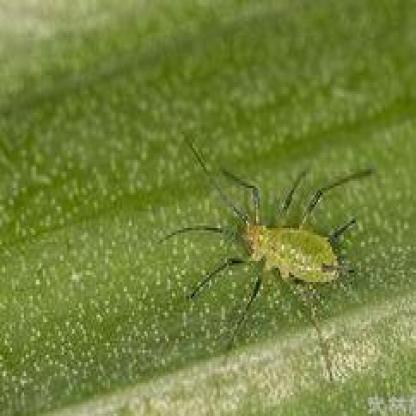aphid: (175, 136, 373, 388)
